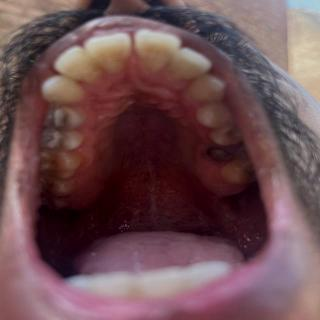cavities: (240, 167, 263, 183), (222, 125, 240, 139)
